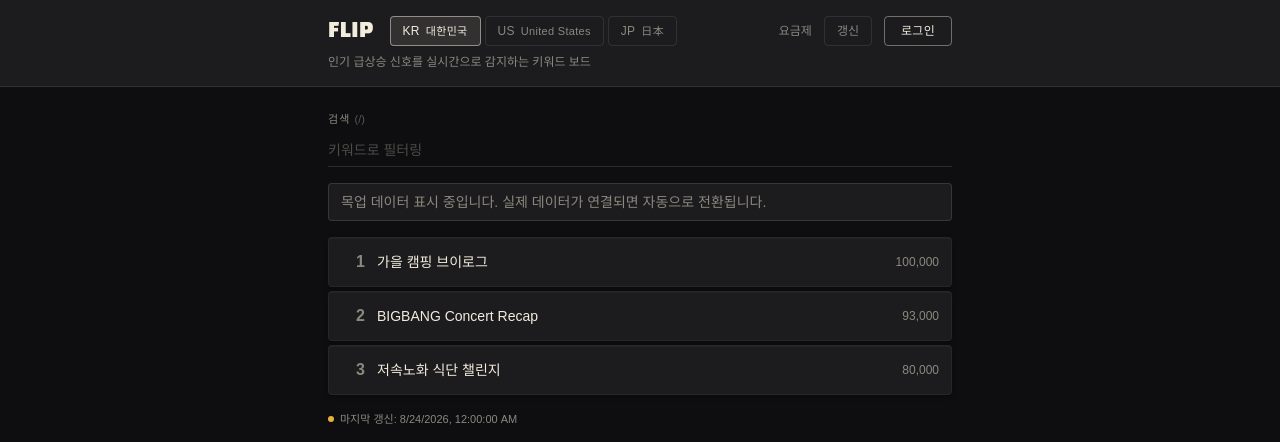
Test: Home dashboard › keyword search/filter › clears via the inline ✕ button and restores the full list
Expected: the button "가을 캠핑 브이로그" is shown, [377,248,884,276]
In the field labelled "검색 (/)": coordinates (640, 150) [328,134,952,166], type "캠핑"
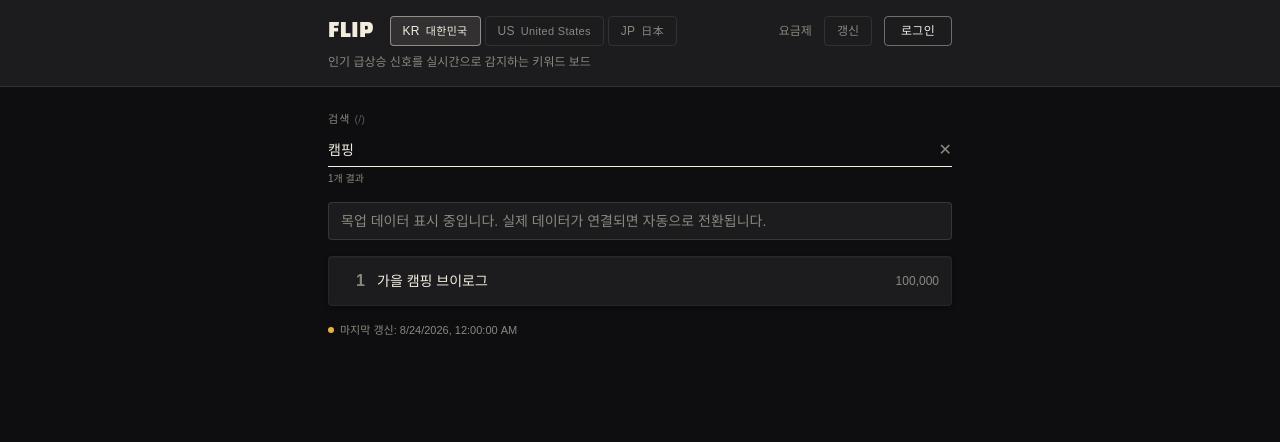
Expected: the button "BIGBANG Concert Recap" is gone
Click the button named "검색어 지우기": coordinates (945, 150) [939,138,952,162]
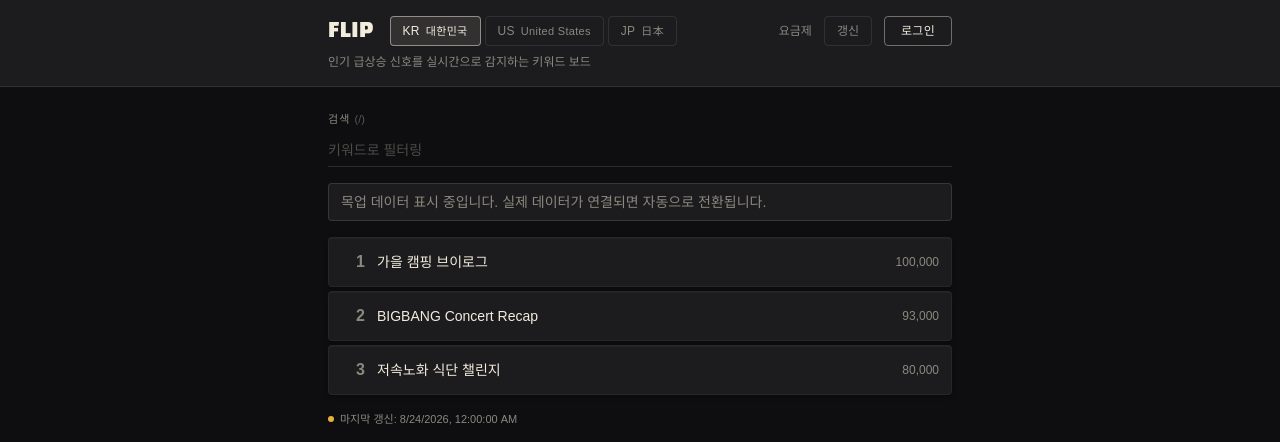
Expected: the field labelled "검색 (/)" is empty, [328,134,952,166]
Expected: the button "BIGBANG Concert Recap" is shown, [377,302,890,330]
Expected: the button "저속노화 식단 챌린지" is shown, [377,356,890,384]
